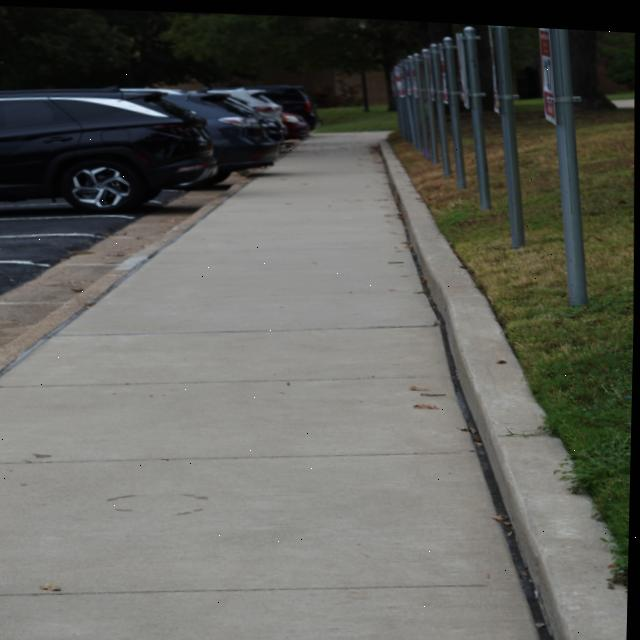Automobile: (0, 86, 217, 212), (165, 91, 280, 180), (188, 88, 286, 141), (208, 84, 286, 130), (247, 81, 320, 126), (282, 108, 310, 136)
Road: (0, 177, 238, 349)
Sidewalk: (0, 128, 544, 640)
